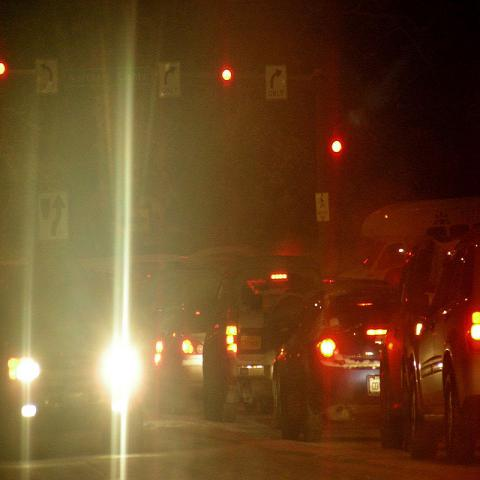car: (1, 260, 150, 455), (272, 278, 400, 445), (382, 227, 477, 444), (403, 235, 478, 463), (150, 252, 240, 418), (106, 254, 193, 379)
truck: (196, 260, 330, 424)
